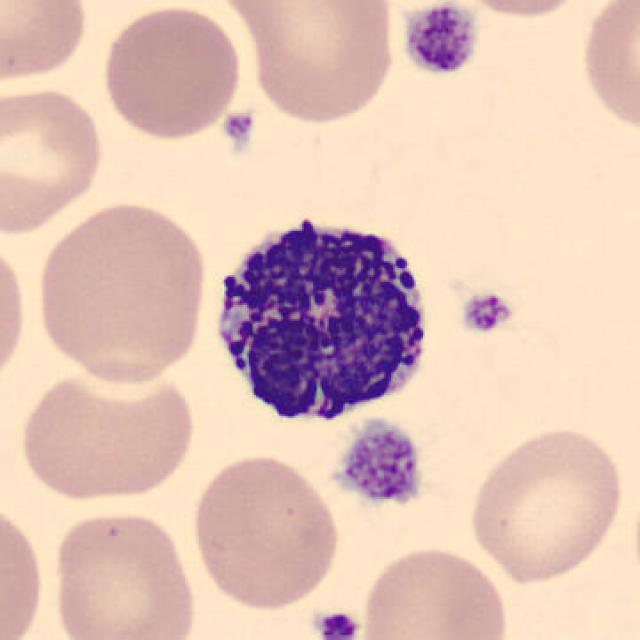Basophil: (198, 199, 444, 437)
Platelets: (331, 418, 426, 511), (396, 0, 481, 79), (457, 287, 515, 337), (218, 108, 258, 152), (313, 608, 364, 640)
RBC: (32, 196, 212, 386), (12, 360, 201, 506), (464, 421, 628, 587), (187, 450, 345, 614), (215, 0, 402, 127), (96, 2, 245, 143), (46, 506, 201, 640), (0, 81, 107, 236), (356, 541, 514, 640), (576, 0, 638, 139), (0, 0, 90, 86), (0, 495, 48, 640), (0, 233, 32, 393), (437, 0, 606, 19)
